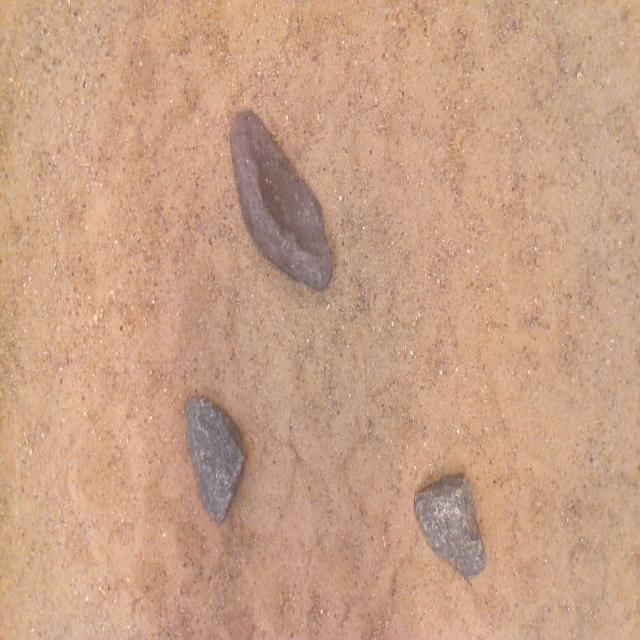rock: (230, 111, 332, 289), (185, 398, 244, 523), (415, 475, 486, 578)
